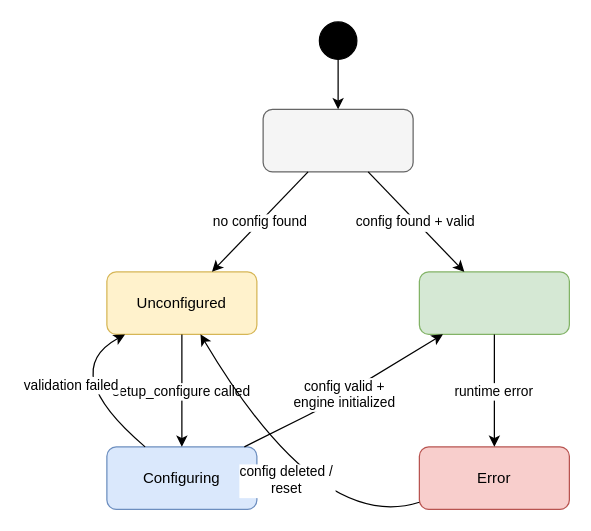
The diagram is 591 pixels wide and 531 high, and some of its shapes have lost their labels. The centre of each missing label's shape, as x and y in pixels:
"Ready" belongs at point 493,302.
"Started" belongs at point 337,140.
